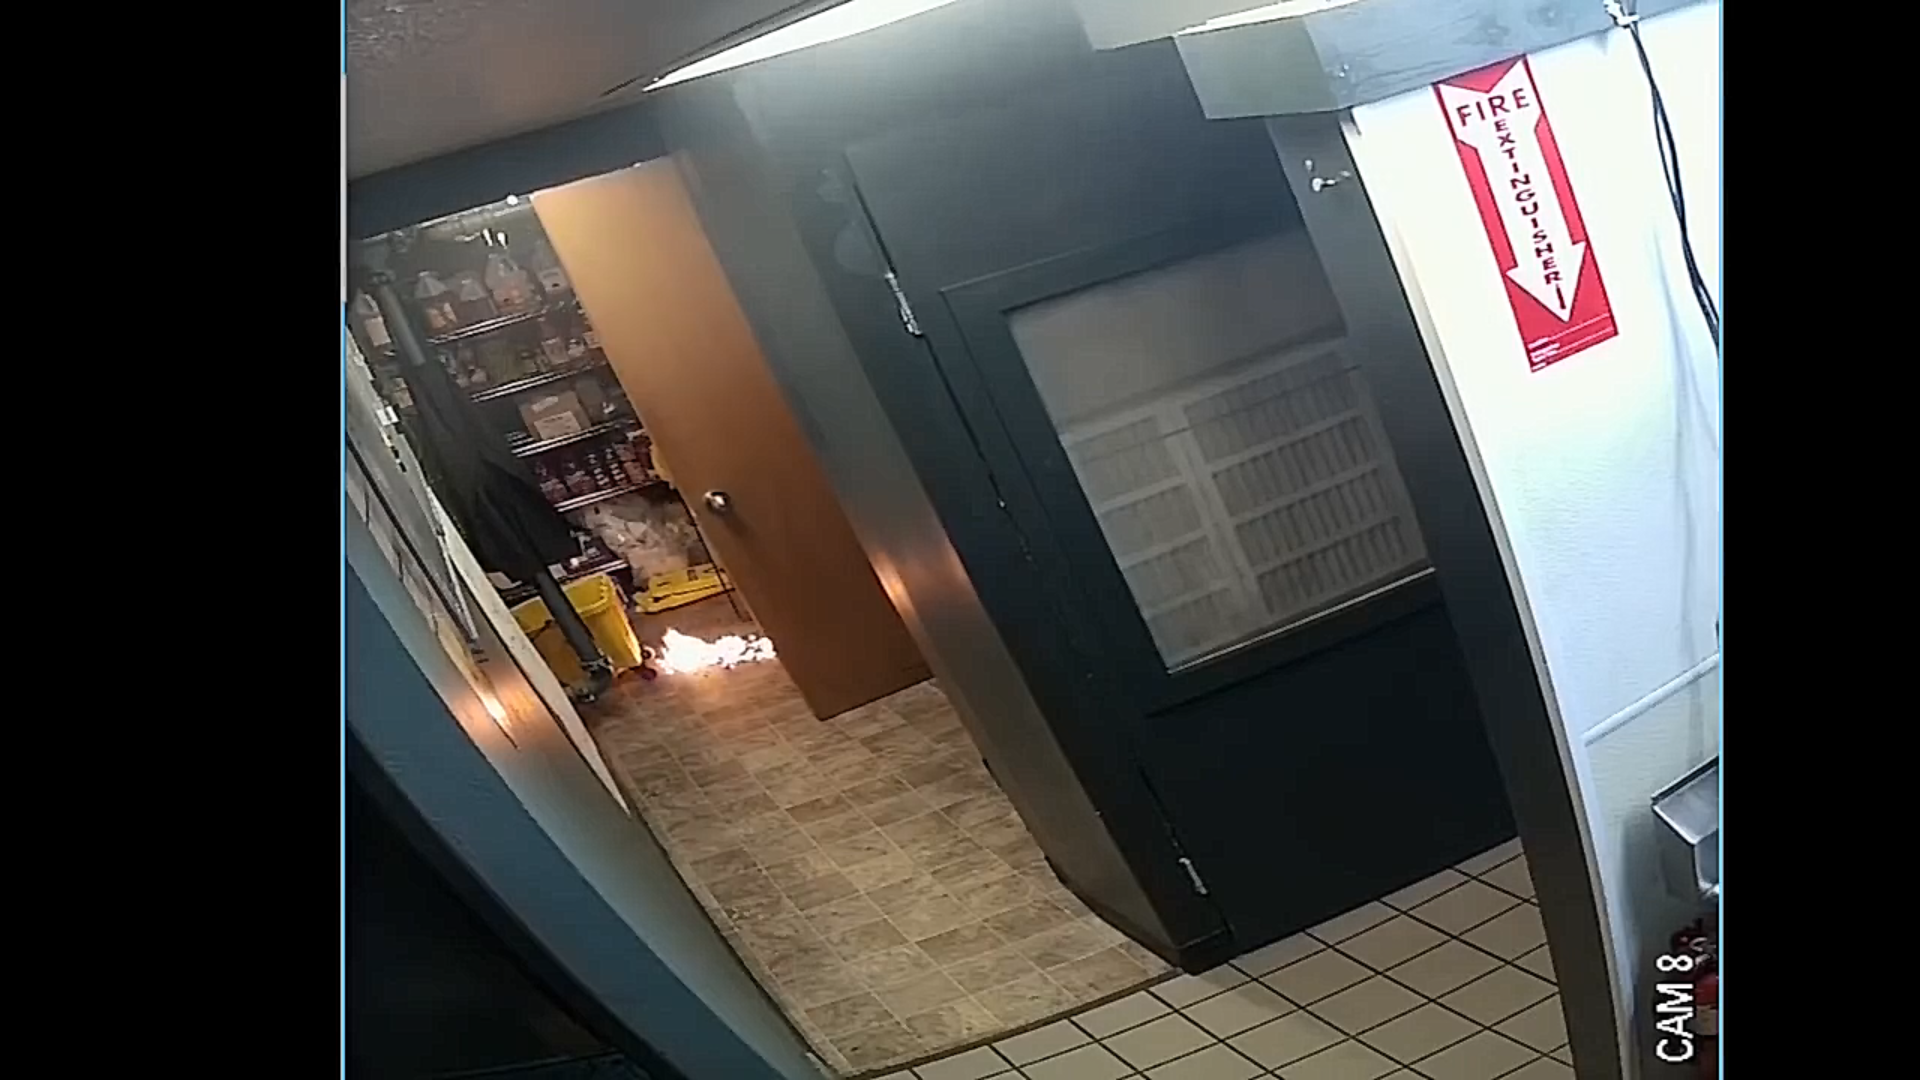fire: (644, 618, 785, 683)
